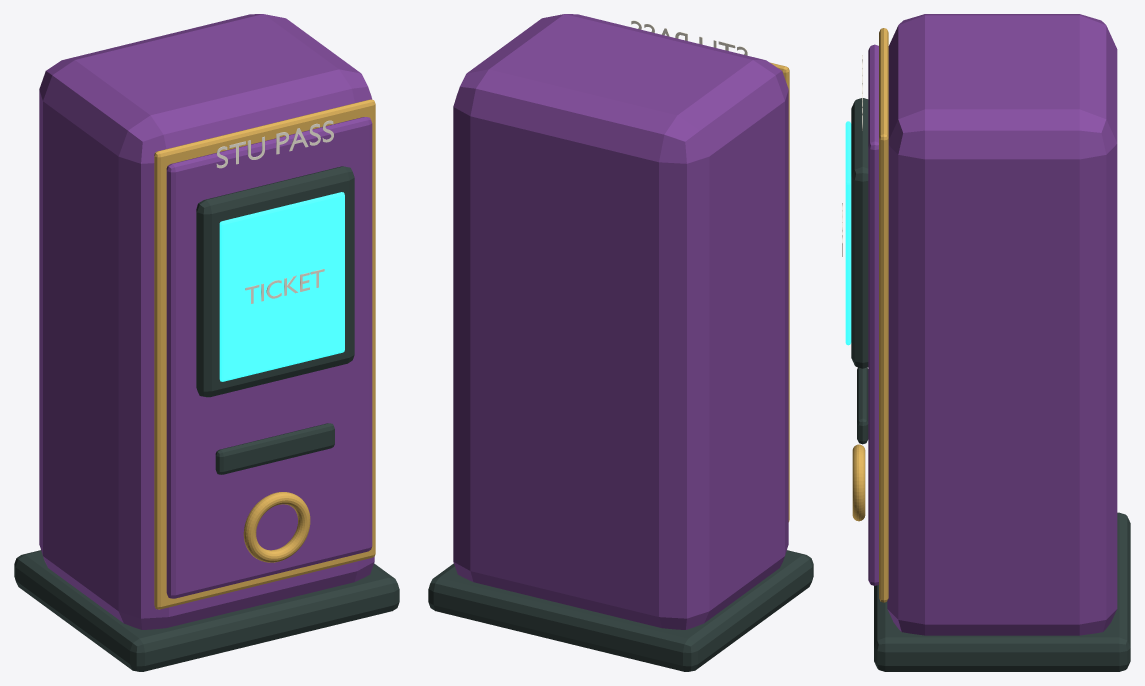
File: ticket-machine.glb
3 renders of one model, left to right at view 1: azimuth 30°, elevation 25°; view 2: azimuth 150°, elevation 25°; view 3: azimuth 270°, elevation 25°, orthographic. The views are drawn at different scales.
Visible parts, largest first — view 1: ticket_machine, ticket_front, ticket_screen, ticket_base, ticket_trim, ticket_screen_frame, ticket_output, gold_coin_slot, machine_title, ticket_glyph; view 2: ticket_machine, ticket_base, ticket_trim; view 3: ticket_machine, ticket_base, ticket_front, ticket_trim, ticket_screen_frame, ticket_screen, gold_coin_slot, ticket_output.
Boxes of the visible parts, x1=… form: ticket_machine: x1=39, y1=14, x2=374, y2=629; ticket_front: x1=166, y1=117, x2=372, y2=598; ticket_screen: x1=219, y1=192, x2=344, y2=381; ticket_base: x1=14, y1=550, x2=399, y2=671; ticket_trim: x1=154, y1=99, x2=375, y2=609; ticket_screen_frame: x1=196, y1=166, x2=354, y2=397; ticket_output: x1=215, y1=423, x2=334, y2=474; gold_coin_slot: x1=243, y1=492, x2=310, y2=562; machine_title: x1=216, y1=120, x2=333, y2=168; ticket_glyph: x1=245, y1=269, x2=324, y2=303; ticket_machine: x1=453, y1=14, x2=788, y2=629; ticket_base: x1=428, y1=550, x2=813, y2=671; ticket_trim: x1=770, y1=62, x2=789, y2=521; ticket_machine: x1=887, y1=14, x2=1117, y2=635; ticket_base: x1=874, y1=512, x2=1130, y2=671; ticket_front: x1=868, y1=44, x2=878, y2=585; ticket_trim: x1=879, y1=28, x2=888, y2=602; ticket_screen_frame: x1=851, y1=98, x2=868, y2=368; ticket_screen: x1=845, y1=121, x2=851, y2=345; gold_coin_slot: x1=852, y1=444, x2=865, y2=521; ticket_output: x1=857, y1=367, x2=868, y2=444.
Bounding box in the file's own units: 0.84 × 1.6 × 0.764.
